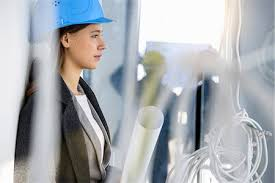Person_wearing_helmet: (34, 0, 112, 39)
